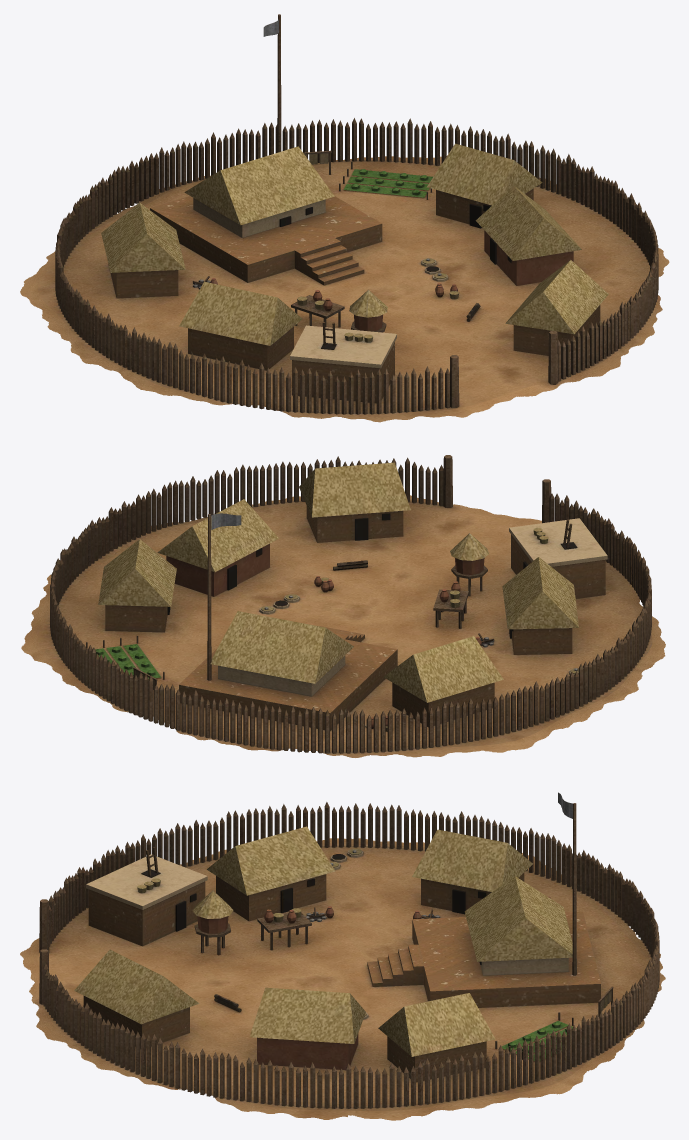
The model's file is stone-town-small-b-indic.glb.
3 renders of one model, top to bottom at view 1: azimuth 30°, elevation 25°; view 2: azimuth 150°, elevation 25°; view 3: azimuth 270°, elevation 25°, orthographic. The views are drawn at different scales.
Parts seen in each view (by area): view 1: LOD0; view 2: LOD0; view 3: LOD0.
Part boxes in pixels (bbox=[...]): LOD0: bbox=[20, 14, 669, 422]; LOD0: bbox=[21, 455, 665, 757]; LOD0: bbox=[20, 792, 665, 1120].
Size of what is drawn, in the model's own units: 3.97 by 1.25 by 3.85.
3 materials, 3 textured.
